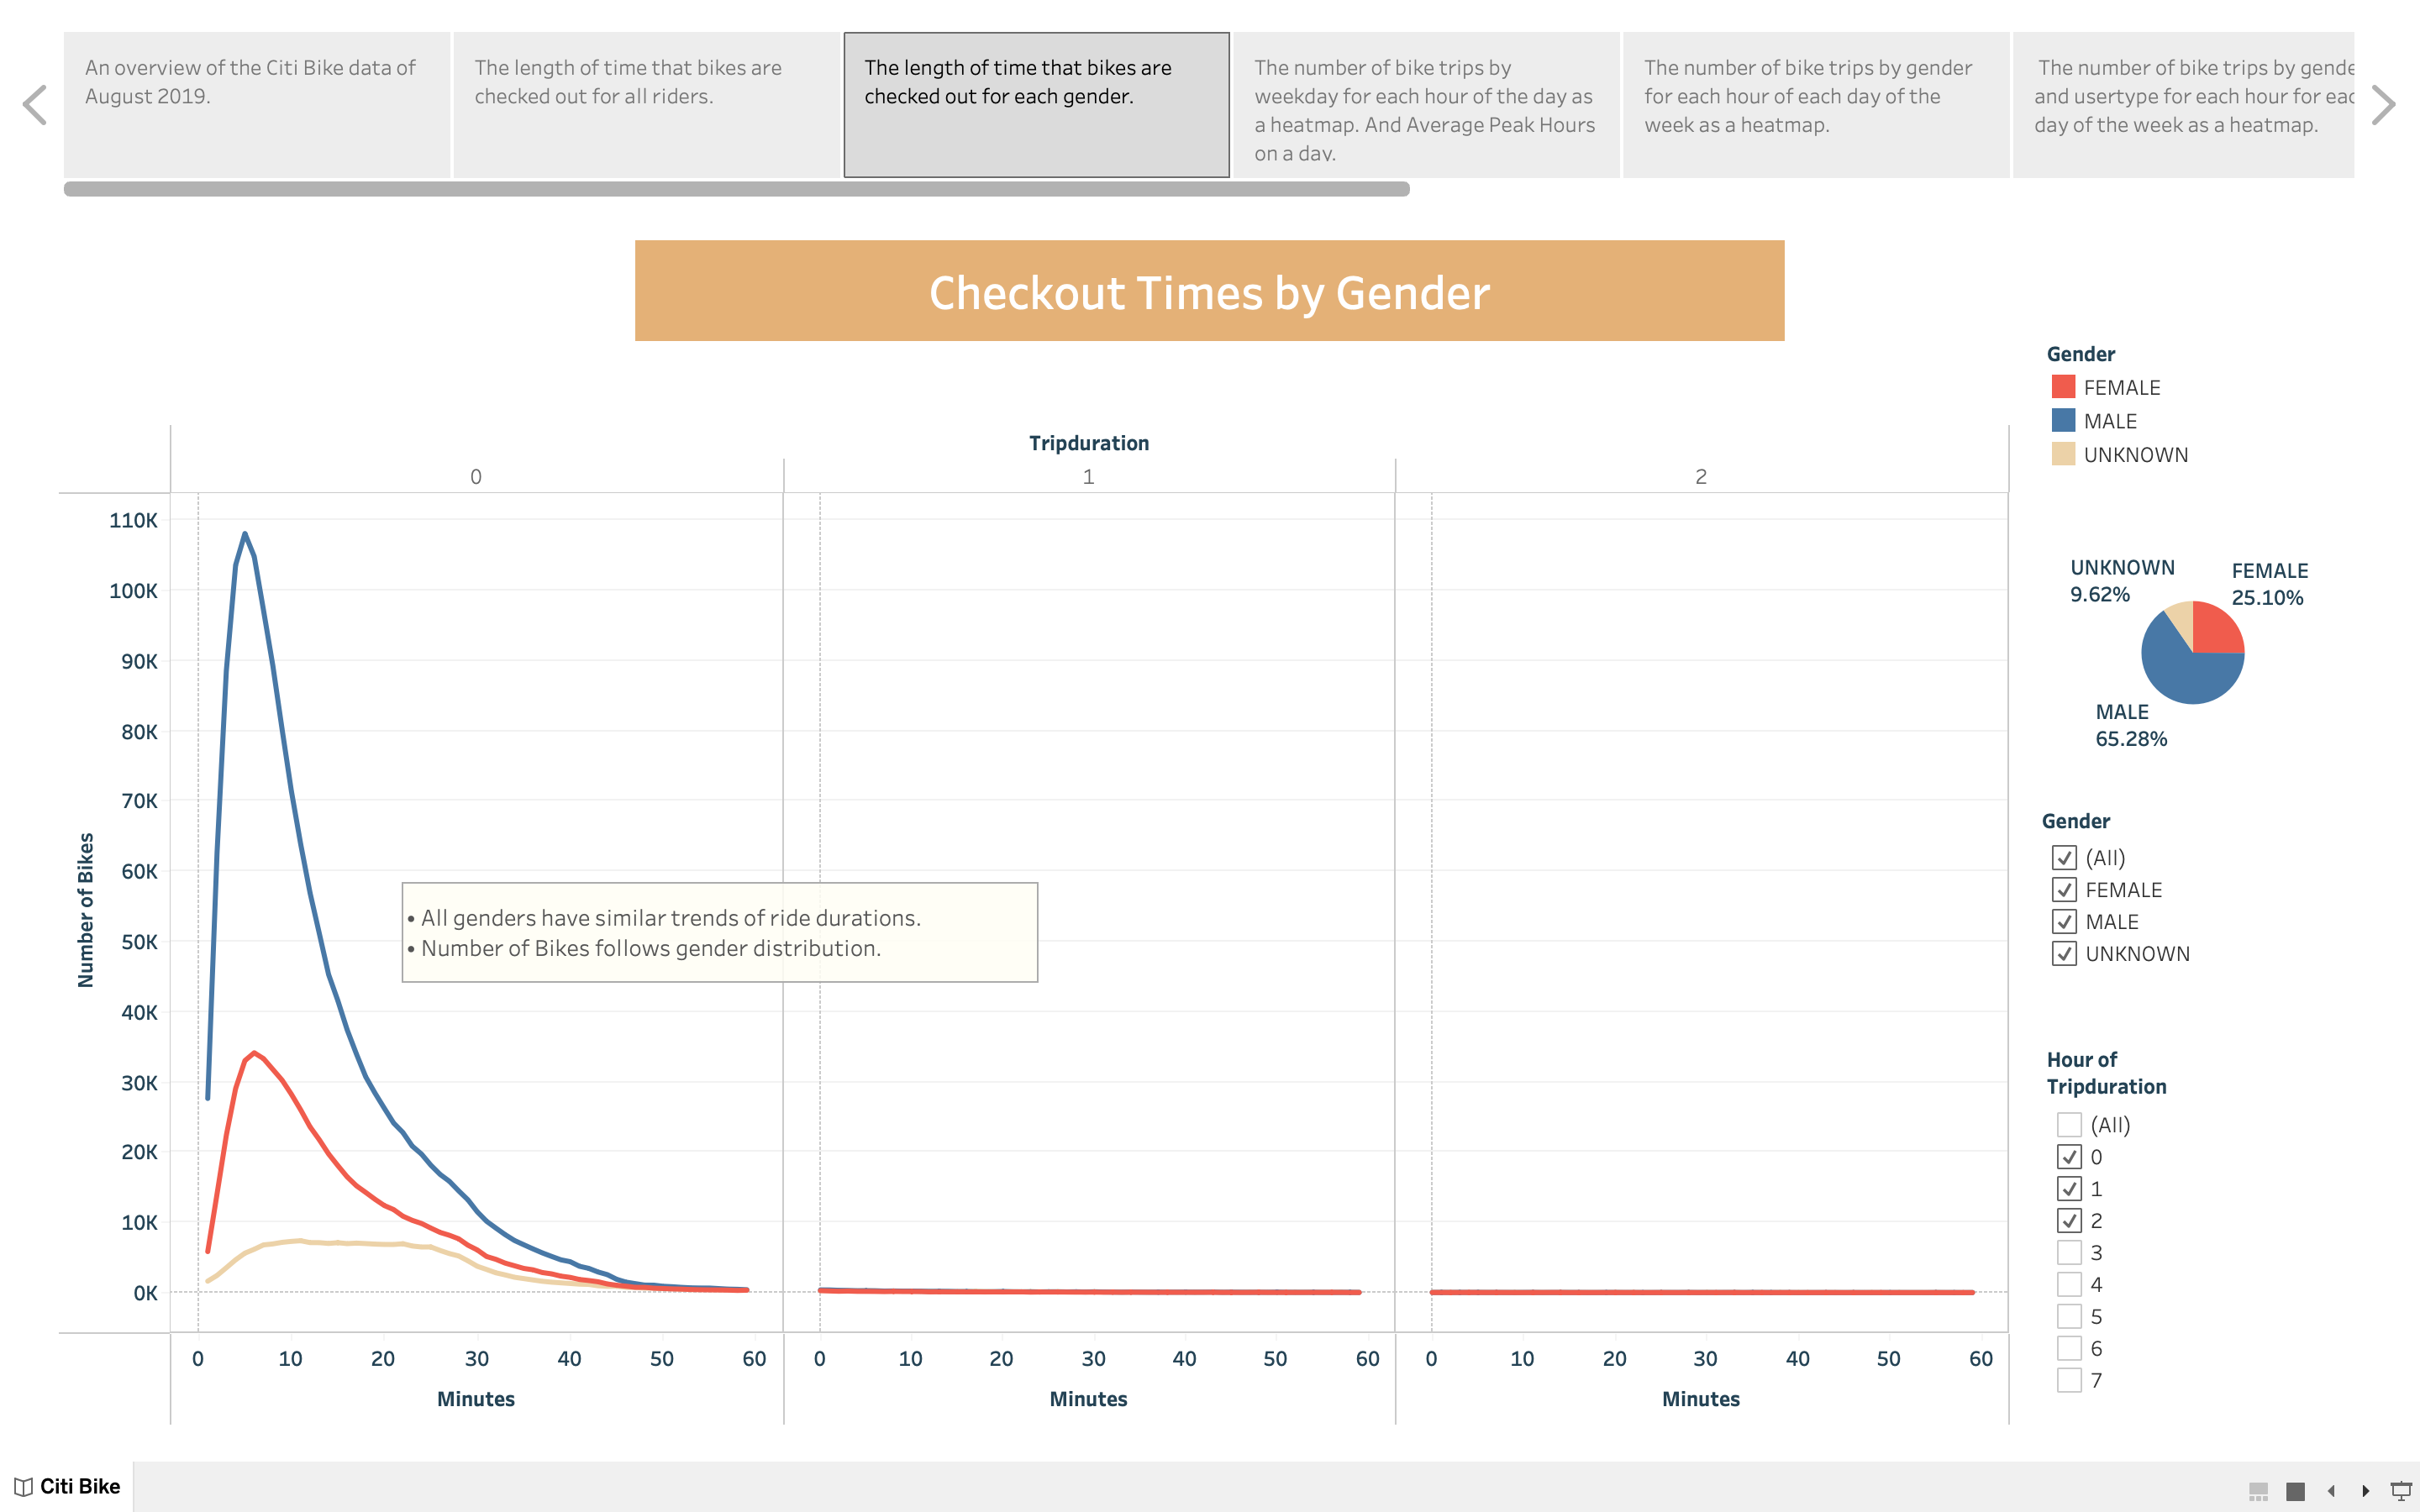

Layout of this report page (visuals, bound fields, positions):
{"tool":"tableau","page":{"name":"3. Checkout Times by Gender","canvas":[1000,1000],"units":"permille","ordinal":3},"visuals":[{"type":"text","box":[260,22.9,480,81.7]},{"type":"legend","title":"Checkout Times by Gender","param":"[federated.0nasni4076z4p817vrrgc1y5v76k].[none:Calculation_839147291479838720:nk","box":[850,103.2,140.2,146.1]},{"type":"worksheet","title":"Checkout Times by Gender","mark":"Automatic","rows":["201908-citibike-updated.csv_693F743F2A5C44828BA9841992CA698F"],"cols":["tripduration","tripduration"],"box":[19,172.5,815,810]},{"type":"worksheet","title":"6. Gender Breakdown","mark":"Pie","box":[840.3,273.6,140.2,167.6]},{"type":"filter","title":"Checkout Times by Gender","param":"[federated.0nasni4076z4p817vrrgc1y5v76k].[none:Calculation_839147291479838720:nk","box":[847.6,481.4,140.2,171.9]},{"type":"filter","title":"Checkout Times by Gender","param":"[federated.0nasni4076z4p817vrrgc1y5v76k].[hr:tripduration:ok]","box":[850,673.4,140.2,283.7]}]}

Visuals, with their boxes on the dashboard's canvas, which has no fixed pixel size, in thousandths of its width and height (x1, y1, x2, y2). These are canvas units, not pixel positions in the 2420x1512 screenshot, which may show the page scaled, cropped or inside an application window:
text: 260:23:740:105
"Checkout Times by Gender" legend: 850:103:990:249
"Checkout Times by Gender" worksheet: 19:172:834:982
"6. Gender Breakdown" worksheet (Pie marks): 840:274:980:441
"Checkout Times by Gender" filter: 848:481:988:653
"Checkout Times by Gender" filter: 850:673:990:957
